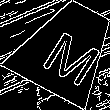M_NE: (31, 15, 102, 82)
